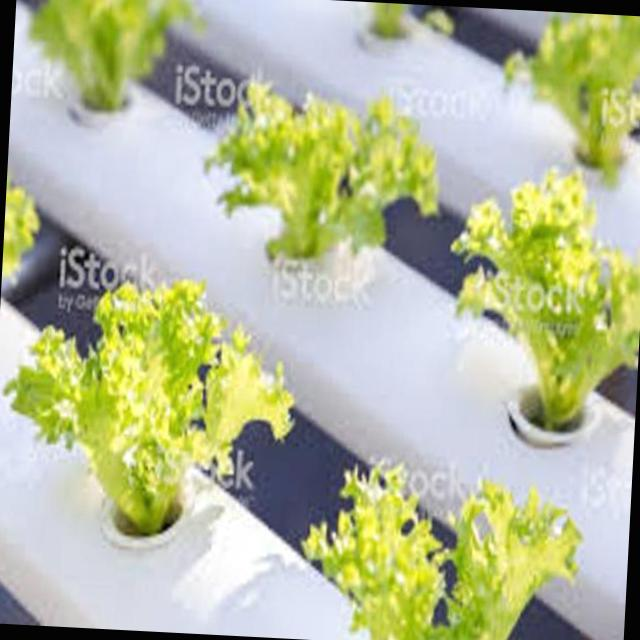Lettuce-Ready-to-Harvest: (7, 280, 293, 536), (455, 172, 640, 442), (303, 465, 581, 640), (208, 82, 436, 260), (32, 0, 196, 111), (529, 14, 640, 165)
